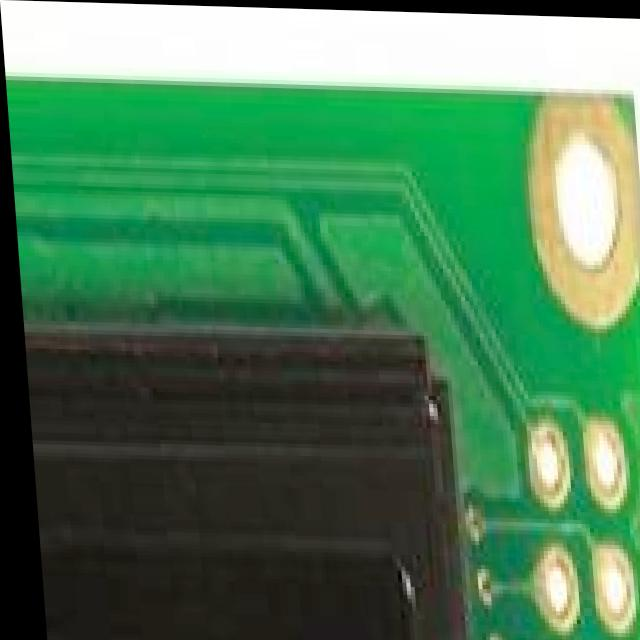display: (17, 288, 485, 640)
